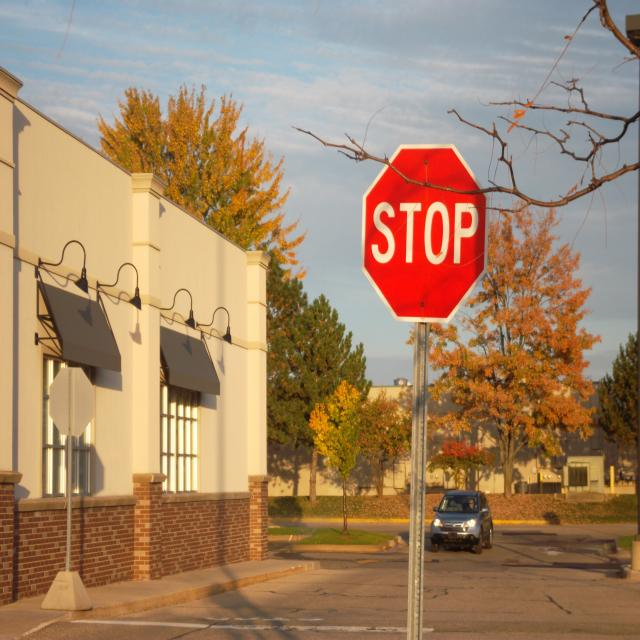stop: (357, 136, 496, 324)
